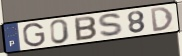0: (49, 18, 70, 45)
8: (127, 10, 148, 34)
B: (74, 15, 99, 42)
D: (149, 6, 175, 33)
G: (21, 22, 47, 48)
S: (97, 13, 126, 39)
